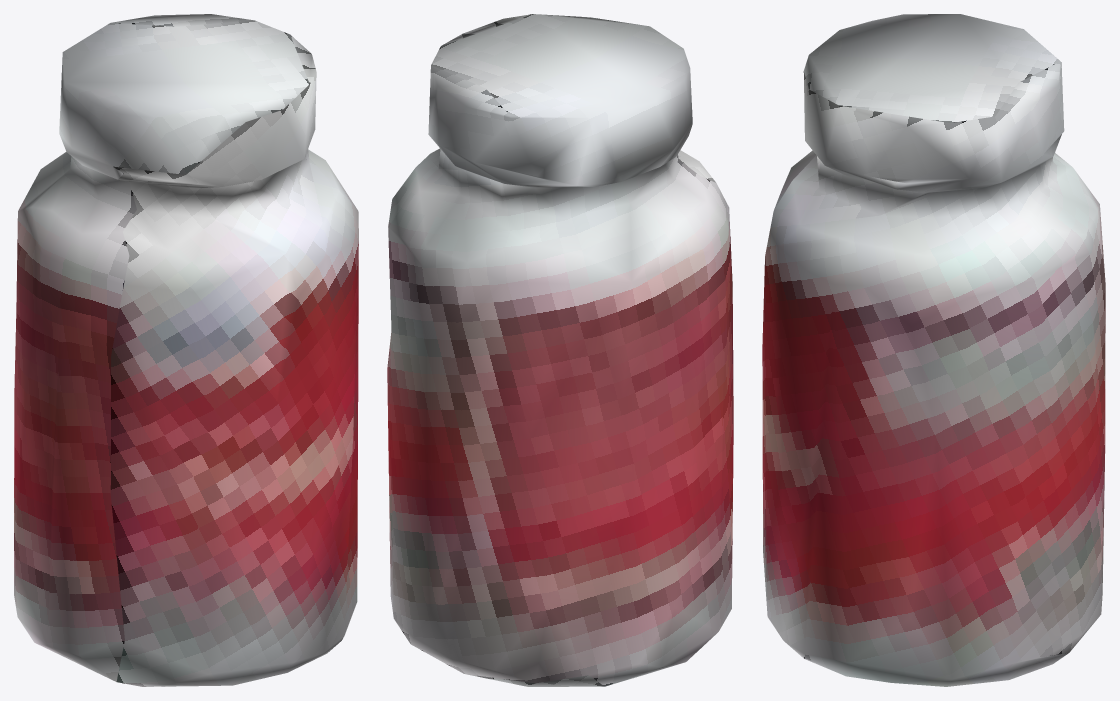
File: LTyrosine-low.glb
The picture shows the model from 3 angles, left to right: view 1: azimuth 30°, elevation 25°; view 2: azimuth 150°, elevation 25°; view 3: azimuth 270°, elevation 25°; orthographic projection.
Visible parts, largest first — view 1: LTyrosine; view 2: LTyrosine; view 3: LTyrosine.
Boxes of the visible parts, x1=… form: LTyrosine: x1=14, y1=14, x2=358, y2=686; LTyrosine: x1=387, y1=14, x2=733, y2=686; LTyrosine: x1=762, y1=14, x2=1105, y2=686.
Size of the model in its own units: 0.0615 by 0.11 by 0.0613.
Materials: 1 (1 with a texture image).
